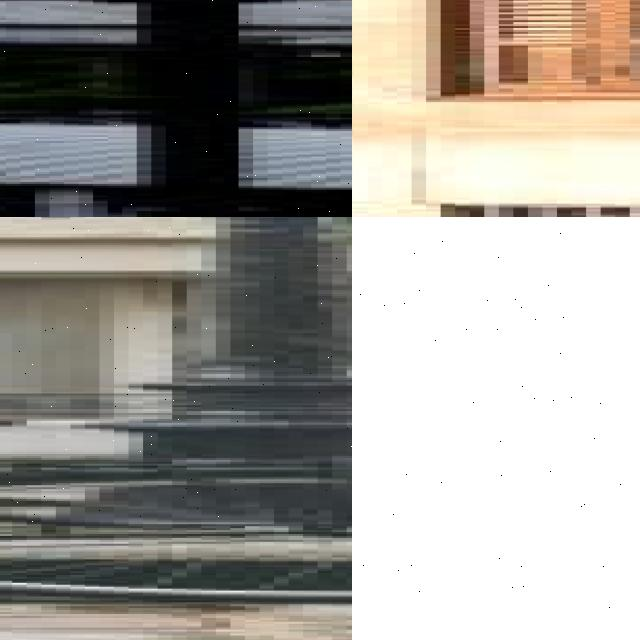street light: (0, 217, 352, 526), (352, 217, 623, 609), (0, 0, 352, 217)
